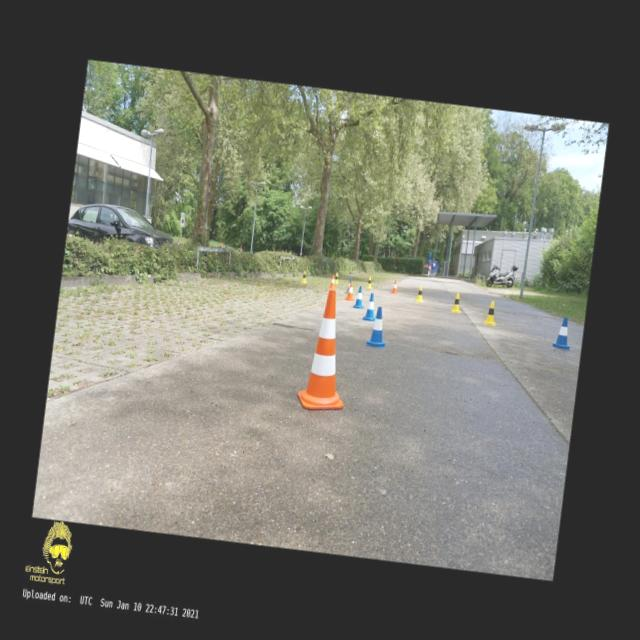blue_cone: (365, 306, 389, 348), (552, 316, 573, 350), (362, 292, 378, 321), (352, 285, 365, 308), (346, 277, 352, 293)
large_orange_cone: (296, 288, 356, 412)
orange_cone: (344, 281, 356, 300), (390, 278, 398, 294), (328, 274, 336, 288)
yellow_cone: (483, 298, 498, 324), (450, 291, 462, 313), (414, 285, 424, 302), (300, 270, 308, 284), (366, 274, 372, 288), (334, 272, 338, 284)
